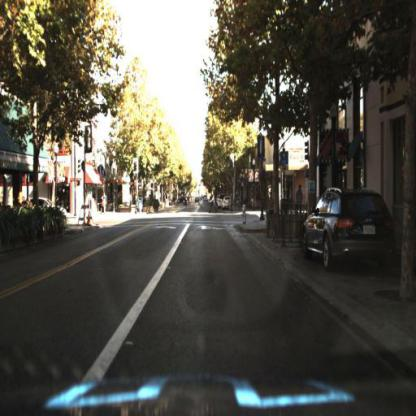car: (304, 184, 397, 270), (222, 194, 233, 215), (216, 193, 223, 217)
pedestrian: (208, 183, 218, 219), (295, 185, 306, 216), (295, 187, 306, 218), (102, 192, 110, 221), (100, 197, 107, 220)
trafficLight-Red: (229, 154, 237, 175), (133, 160, 140, 177)
